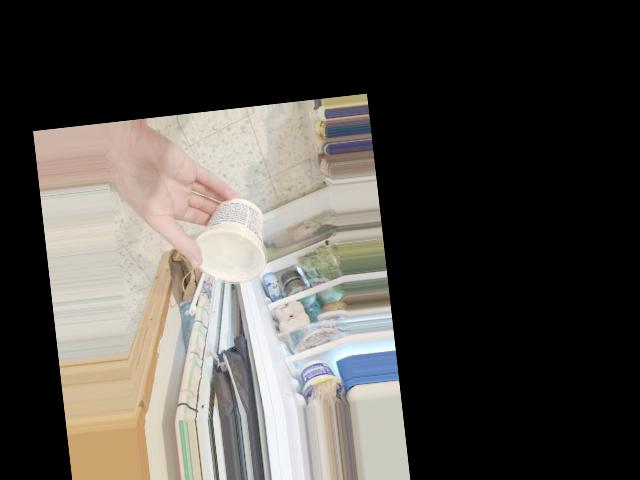cotage: (189, 194, 263, 288)
